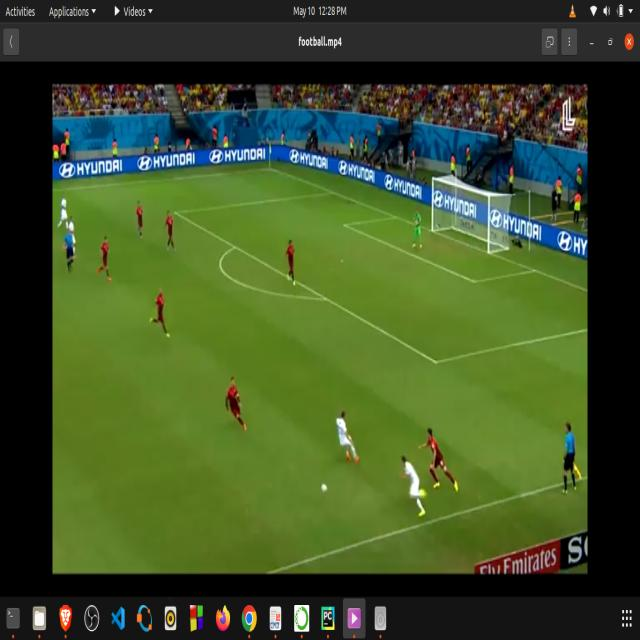ball: (318, 480, 332, 501)
player: (417, 413, 464, 501), (329, 403, 367, 482), (222, 365, 251, 443), (400, 451, 428, 526), (147, 280, 177, 338), (160, 203, 182, 261), (410, 205, 432, 261), (283, 234, 302, 286), (133, 203, 151, 247), (100, 228, 114, 278), (58, 199, 69, 230)
referee: (559, 420, 582, 501), (65, 230, 79, 284)
